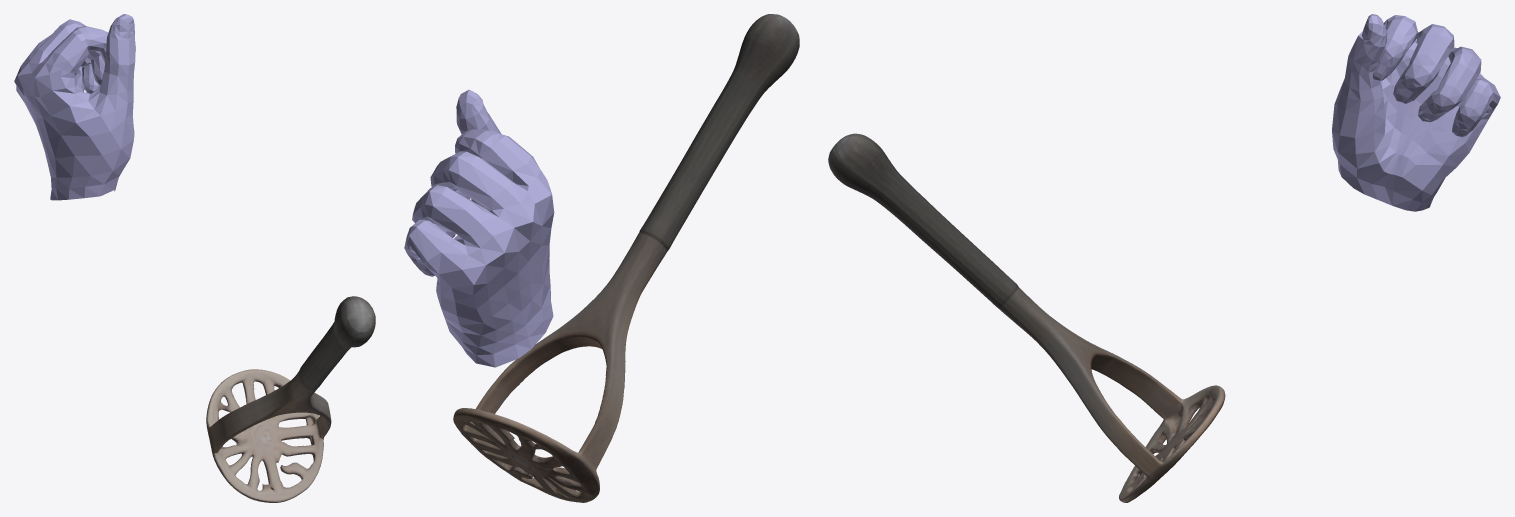
File: frame_0058_source_000058_hand_object.glb
The picture shows the model from 3 angles, left to right: view 1: azimuth 30°, elevation 25°; view 2: azimuth 150°, elevation 25°; view 3: azimuth 270°, elevation 25°; orthographic projection. The views are drawn at different scales.
Visible parts, largest first — view 1: world; view 2: world; view 3: world.
Part boxes in pixels (bbox=[...]): world: bbox=[14, 14, 375, 502]; world: bbox=[404, 14, 799, 502]; world: bbox=[828, 14, 1500, 502].
Size of the model in its own units: 0.1246 by 0.2773 by 0.3688.
